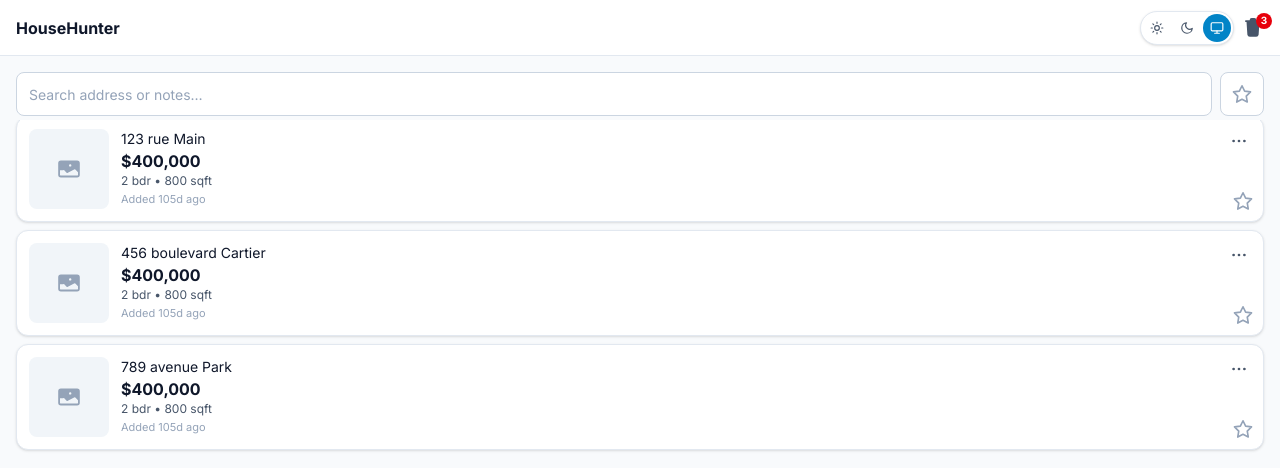
/recent page › filters cards by the search query across address and notes
In the field named "search listings": [614, 94] box [16, 72, 1212, 116], type "cartier"
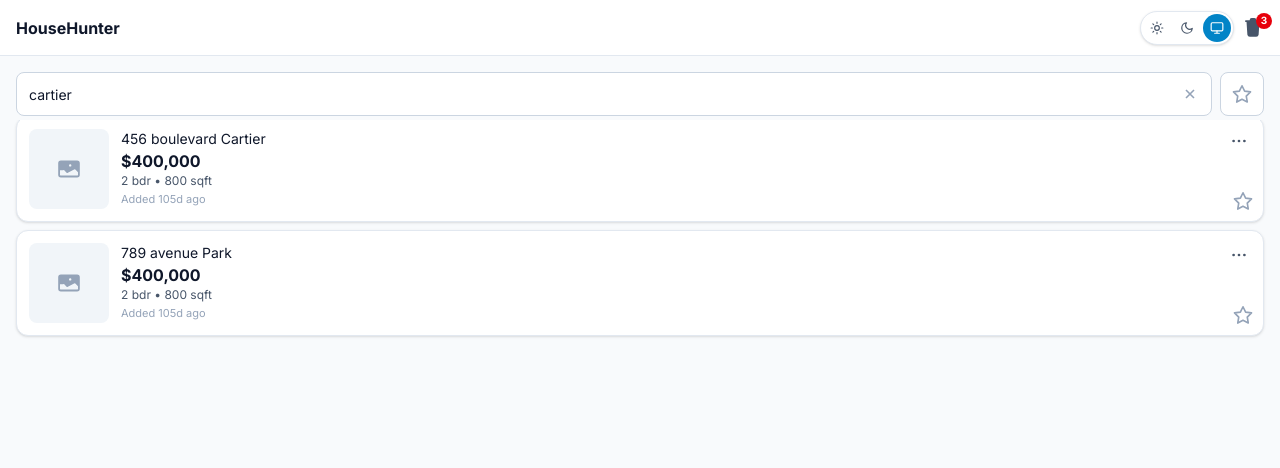
Expected: the text "456 boulevard Cartier" is shown, [121, 130, 266, 147]
Now the number of buttons with test id "listing-card-body" is 2, box [17, 117, 1263, 221]; [17, 231, 1263, 335]
